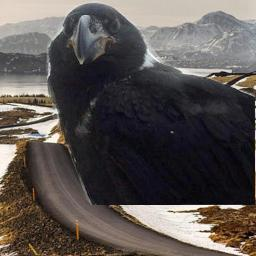Crow: (44, 1, 255, 205)
